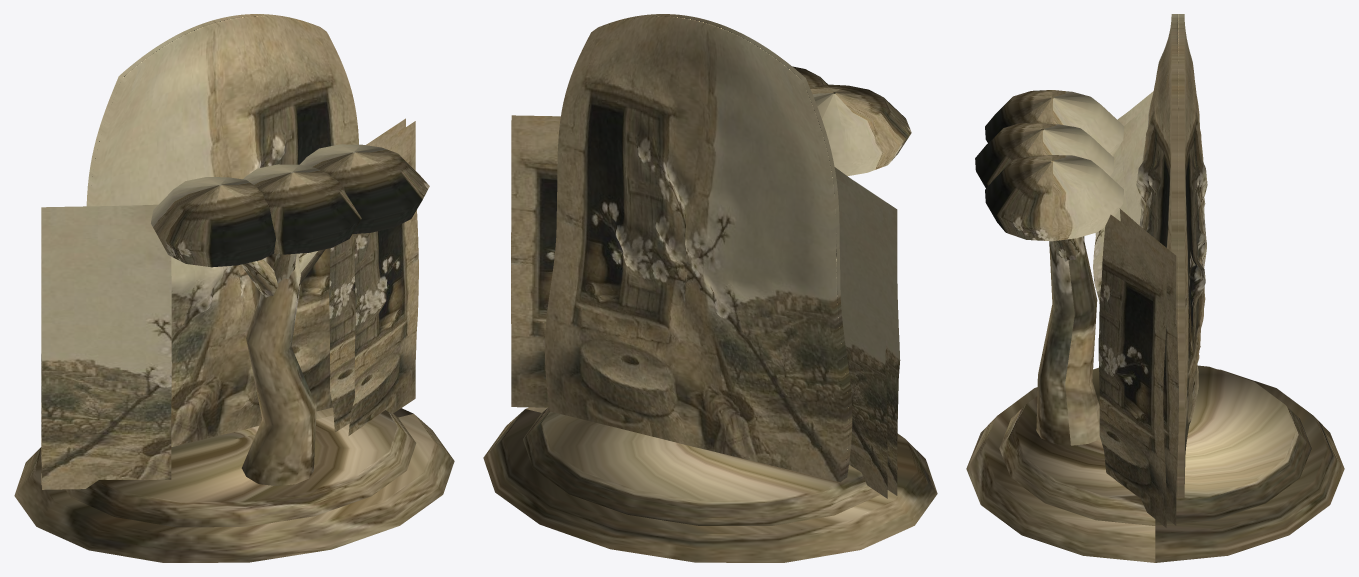
Rendered from eternity-in-their-hearts-34.glb.
3 renders of one model, left to right at view 1: azimuth 30°, elevation 25°; view 2: azimuth 150°, elevation 25°; view 3: azimuth 270°, elevation 25°, orthographic. The views are drawn at different scales.
Parts seen in each view (by area): view 1: PaintingSculptureMonument; view 2: PaintingSculptureMonument; view 3: PaintingSculptureMonument.
Part boxes in pixels (bbox=[...]): PaintingSculptureMonument: bbox=[14, 14, 454, 562]; PaintingSculptureMonument: bbox=[483, 14, 937, 562]; PaintingSculptureMonument: bbox=[966, 14, 1344, 562].
Bounding box in the file's own units: 2.76 × 2.99 × 2.35.
1 material, 1 textured.
